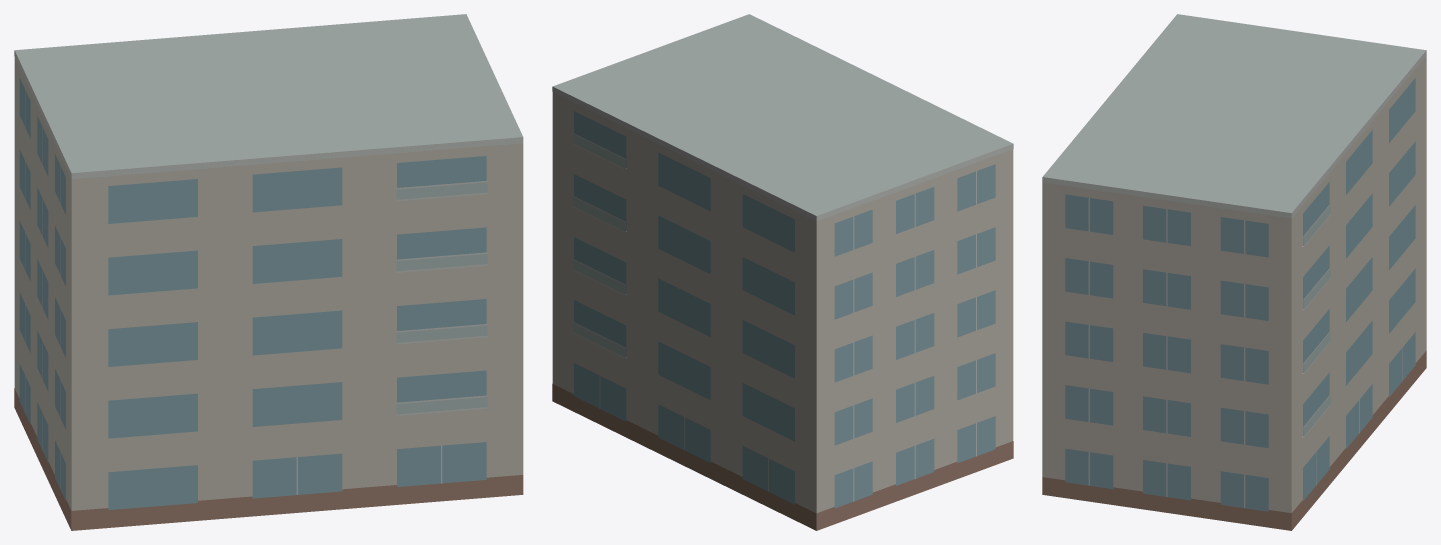
Rendered from survey-upis-32685872.glb.
3 renders of one model, left to right at view 1: azimuth 30°, elevation 25°; view 2: azimuth 150°, elevation 25°; view 3: azimuth 270°, elevation 25°, orthographic. The views are drawn at different scales.
Parts seen in each view (by area): view 1: survey-upis-32685872.tmp; view 2: survey-upis-32685872.tmp; view 3: survey-upis-32685872.tmp.
Part boxes in pixels (bbox=[...]): survey-upis-32685872.tmp: bbox=[14, 14, 523, 530]; survey-upis-32685872.tmp: bbox=[552, 14, 1013, 530]; survey-upis-32685872.tmp: bbox=[1042, 14, 1426, 530].
Size of the model in its own units: 19.36 by 14.4 by 15.79.
